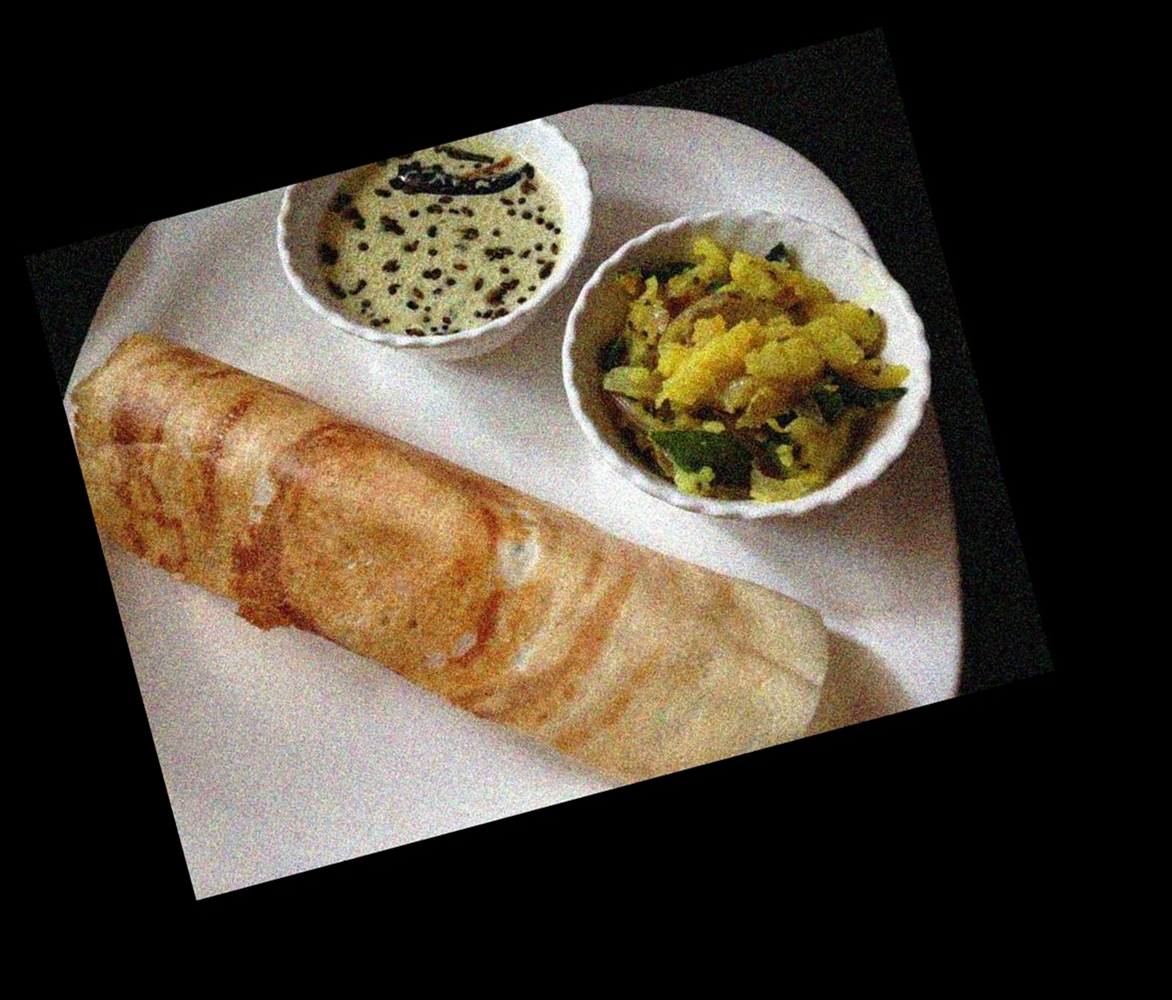dosa: (60, 330, 826, 784)
